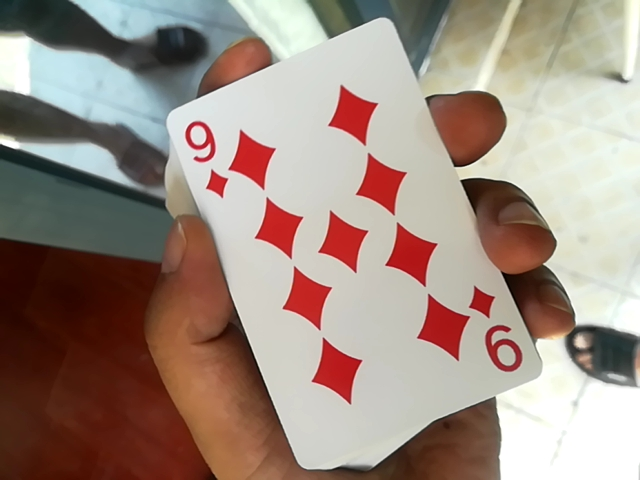fk 9: (174, 14, 522, 471)
